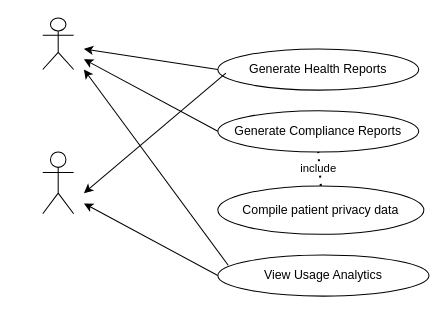
The diagram is 447 pixels wide and 314 high, and some of its shapes have lost their labels. Here are the shapes that lost their labels. From the top down, the centre of each, then its label:
(58,43): Gov. regulator
(58,182): Adminstrator
